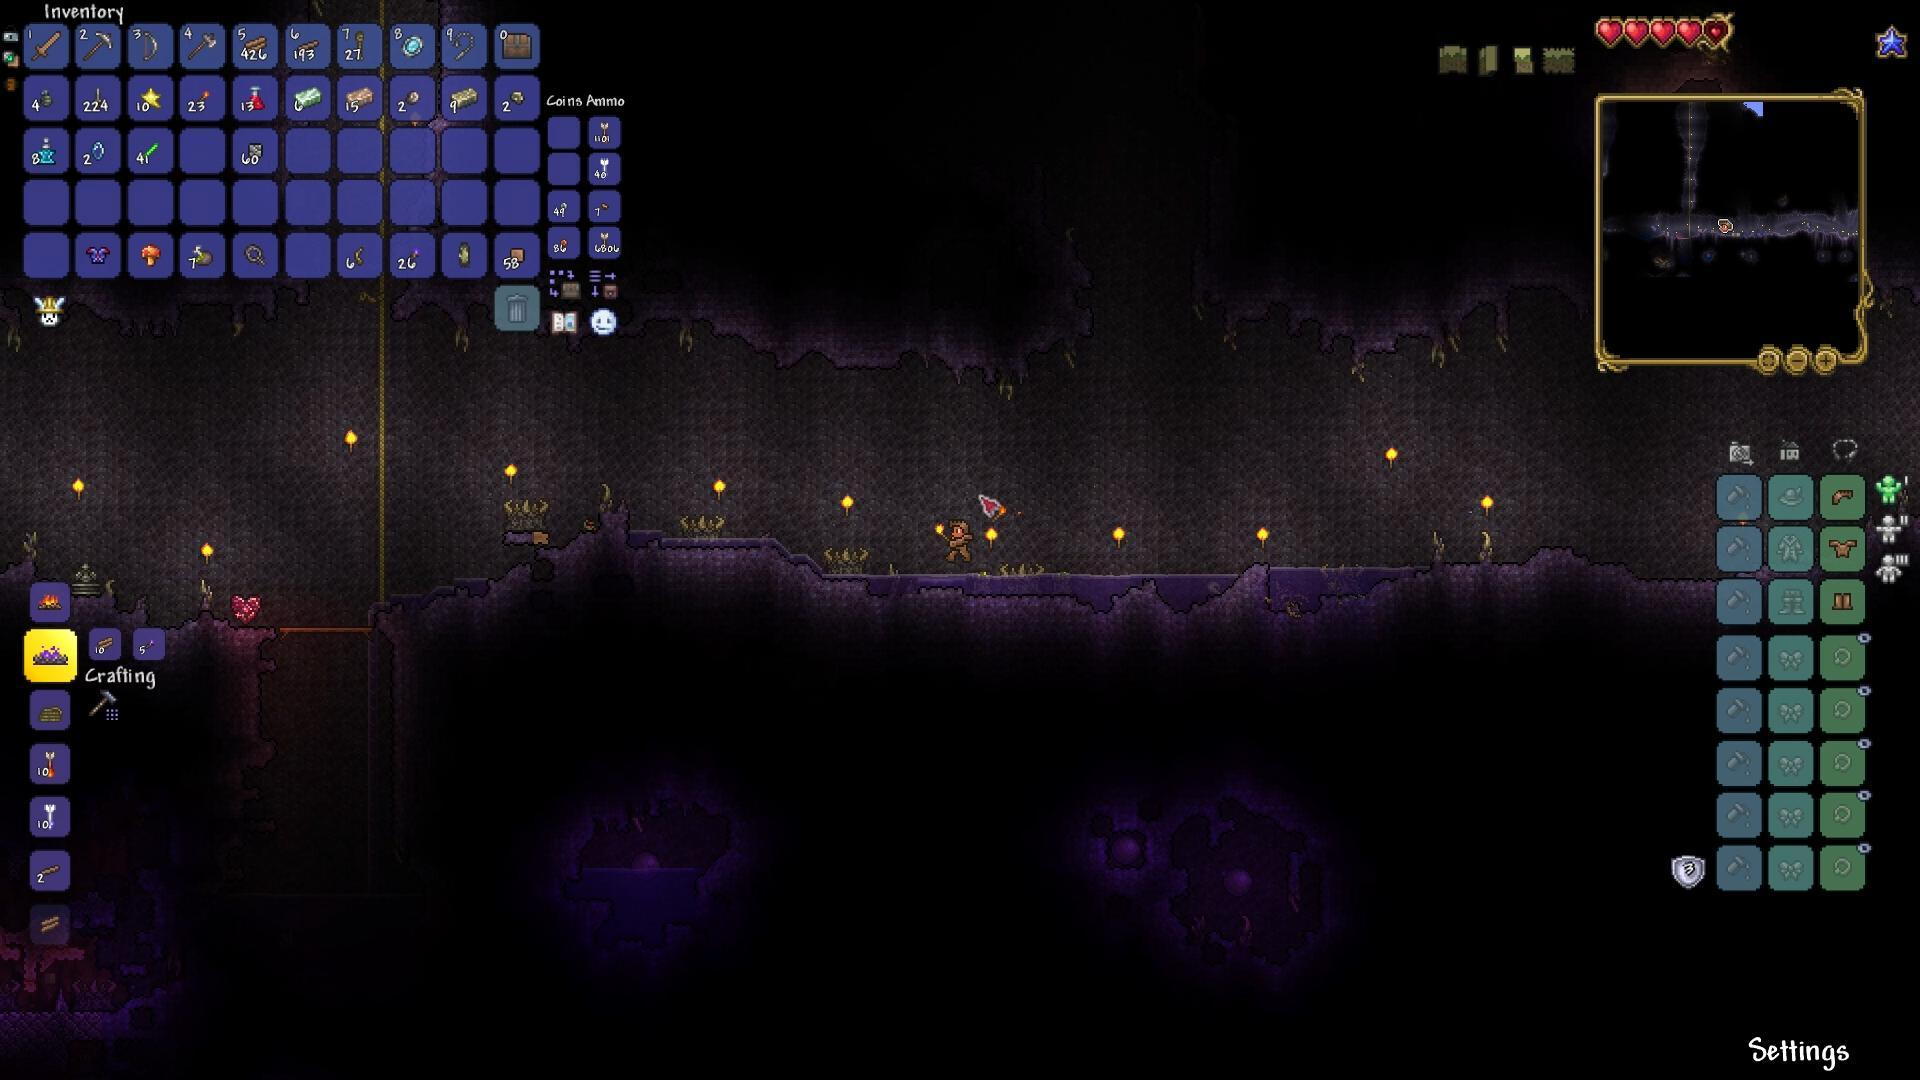glowstick: (140, 137, 160, 162)
knife: (86, 80, 107, 104)
lifeC: (228, 591, 262, 626)
potion: (245, 80, 265, 112)
recallP: (37, 135, 58, 165)
star: (138, 84, 162, 111)
